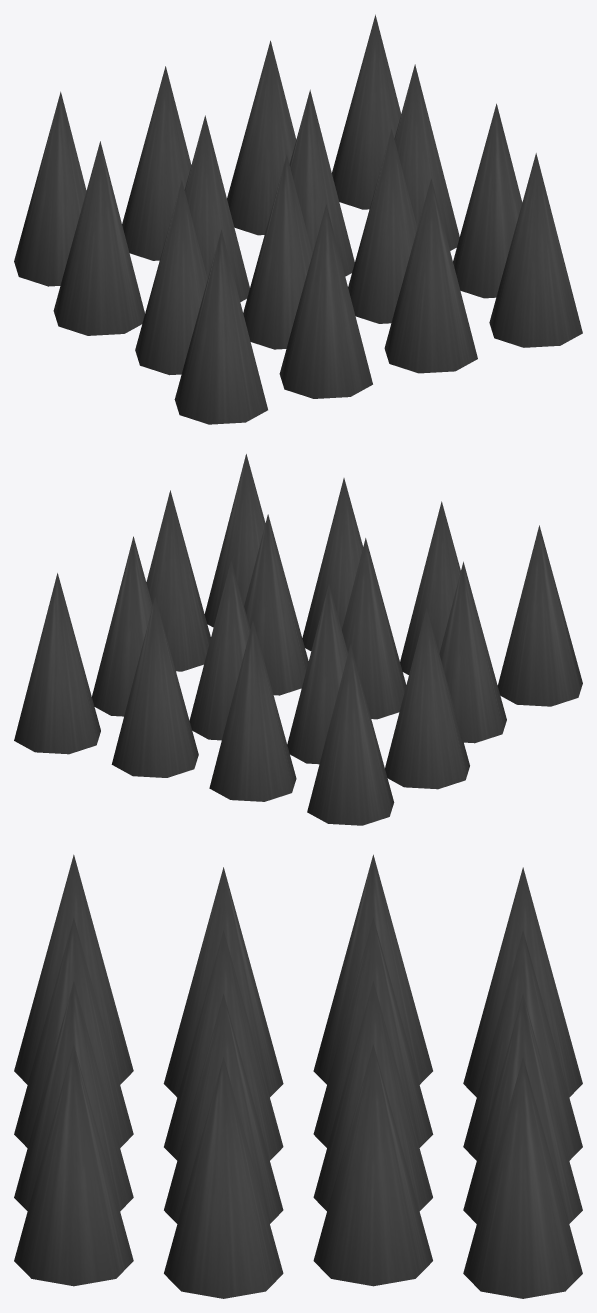
Rendered from Thorn.fbx.
3 renders of one model, top to bottom at view 1: azimuth 30°, elevation 25°; view 2: azimuth 150°, elevation 25°; view 3: azimuth 270°, elevation 25°, orthographic. The views are drawn at different scales.
Parts seen in each view (by area): view 1: Thorn; view 2: Thorn; view 3: Thorn.
Part boxes in pixels (x1,y1,x2,y2): Thorn: (14, 14, 582, 424); Thorn: (14, 454, 582, 825); Thorn: (14, 854, 582, 1298).
Bounding box in the file's own units: 2 × 0.8 × 1.9.
